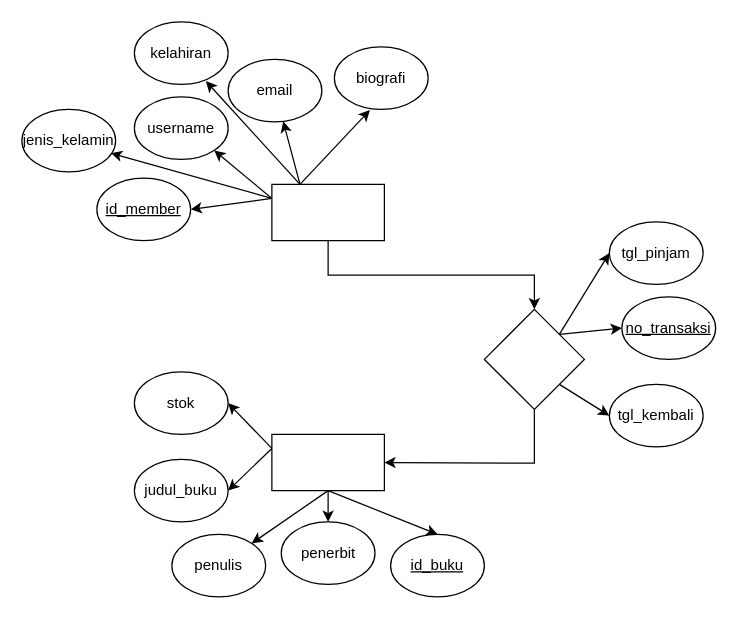
Some shapes in this 738 by 619 pixel diagram are drawn without their labels. The shapes that lost their labels are listed below. From the top down, each one's centre as x and y in pixels, then its label:
At point 327,212: "Member".
At point 533,358: "Pinjam".
At point 327,462: "Buku".
